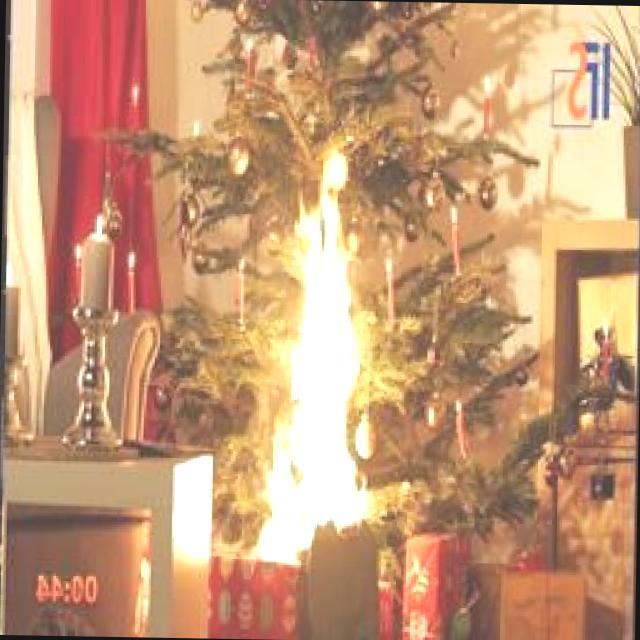fire: (204, 132, 426, 610)
